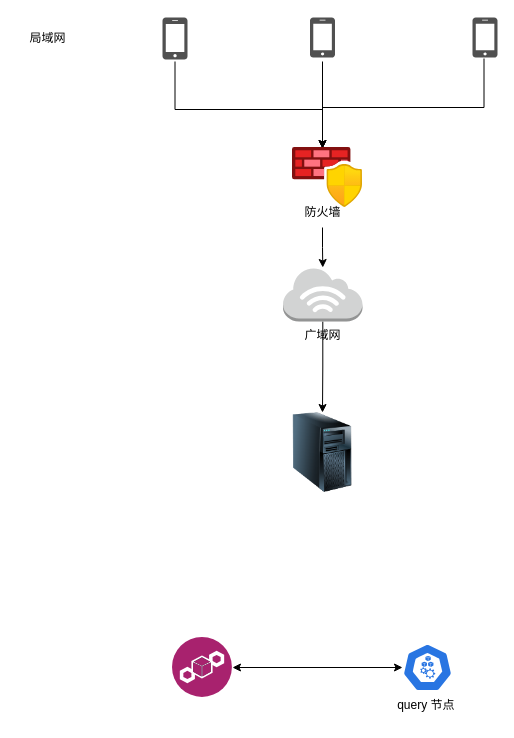
Some shapes in this 514 by 738 pixel diagram are drawn without their labels. Here are the shapes that lost their labels. From the top down, the centre of each, then its label:
At (322,452): "server".
At (202,667): "公链".
